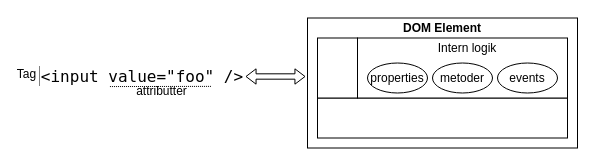
The diagram is 595 pixels wide and 165 high, and some of its shapes have lost their labels. Each missing label, with the box of its shape:
Style: (316, 37, 358, 98)
Template: (316, 97, 568, 138)
